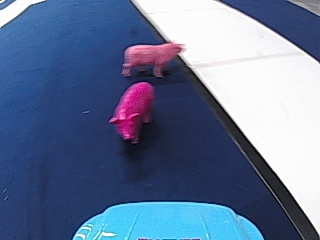pig: (108, 78, 152, 144), (120, 38, 180, 77)
